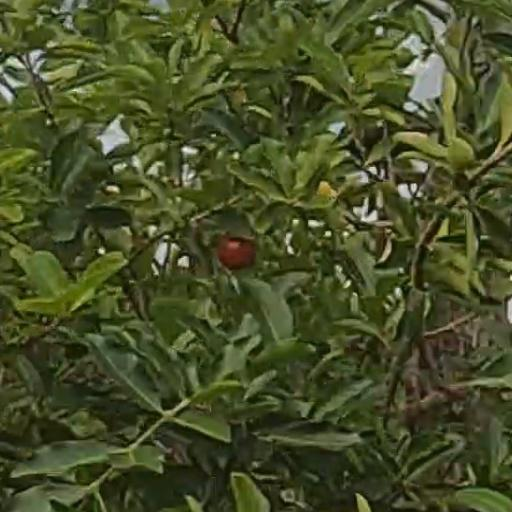acerola_vermelha: (221, 239, 253, 268)
